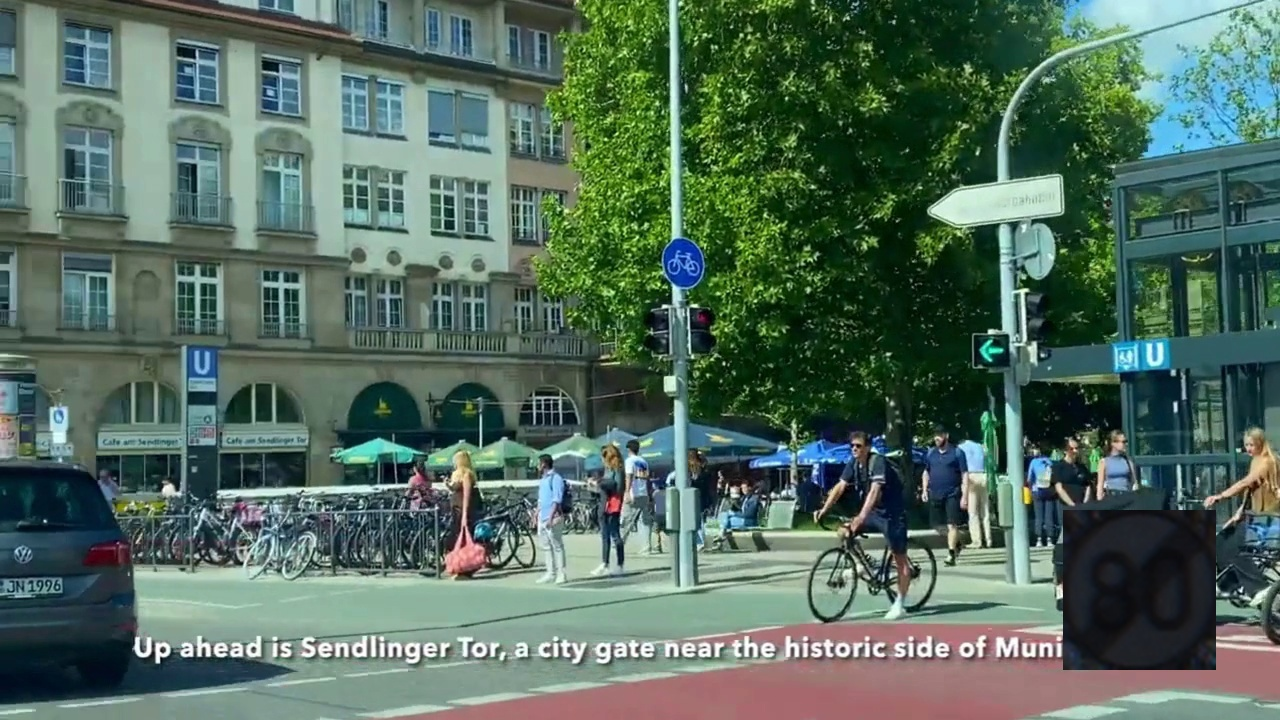End Speed 80: (1063, 510, 1216, 670)
